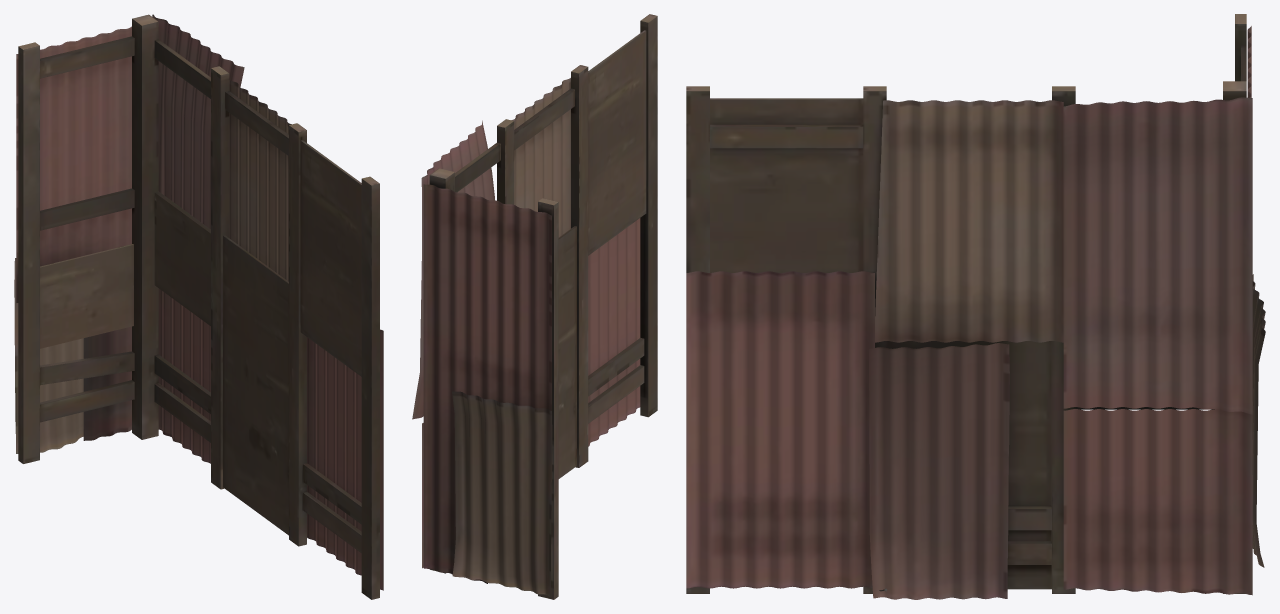
3 views of the same model, side by side, from view 1: azimuth 30°, elevation 25°; view 2: azimuth 150°, elevation 25°; view 3: azimuth 270°, elevation 25° (orthographic). The views are drawn at different scales.
Parts seen in each view (by area): view 1: body0_model0_lod0_mesh0; view 2: body0_model0_lod0_mesh0; view 3: body0_model0_lod0_mesh0.
Boxes of the visible parts, x1=… form: body0_model0_lod0_mesh0: x1=14, y1=14, x2=383, y2=599; body0_model0_lod0_mesh0: x1=412, y1=14, x2=657, y2=599; body0_model0_lod0_mesh0: x1=686, y1=14, x2=1265, y2=599.
Size of the model in its own units: 72.15 by 189 by 196.
1 material, 1 textured.
